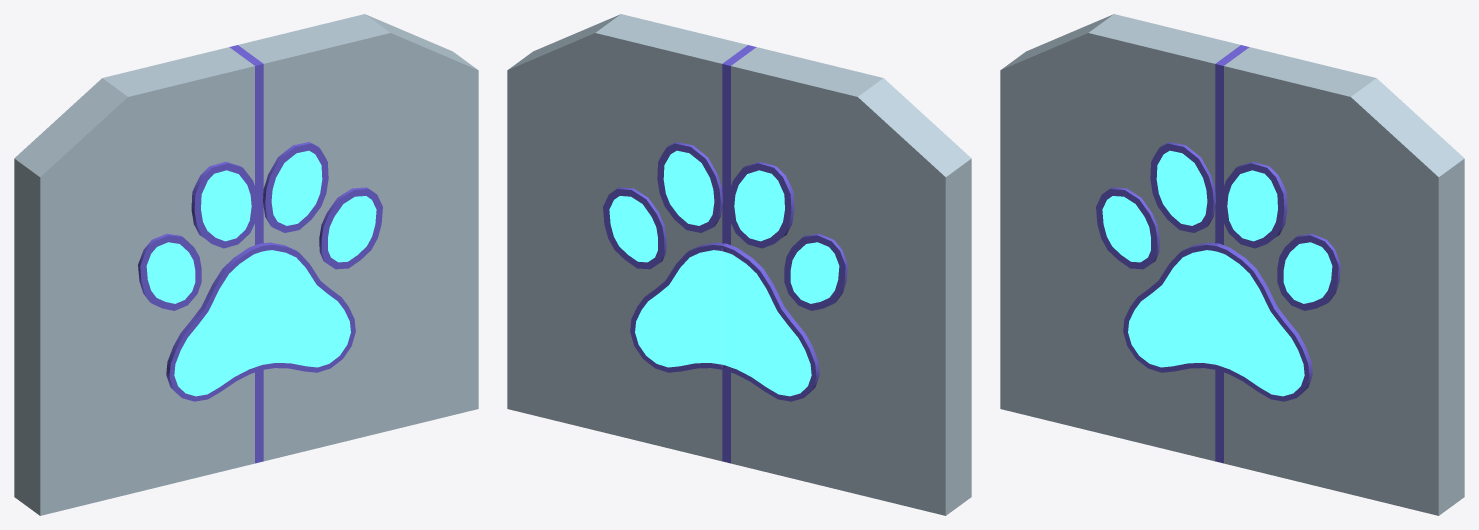
The model's file is CatDoor.fbx.
3 renders of one model, left to right at view 1: azimuth 30°, elevation 25°; view 2: azimuth 150°, elevation 25°; view 3: azimuth 330°, elevation 25°, orthographic.
Parts seen in each view (by area): view 1: DoorFrame_Cat; view 2: DoorFrame_Cat; view 3: DoorFrame_Cat.
Boxes of the visible parts, x1,y1,x2,y2 form: DoorFrame_Cat: (14, 14, 478, 515); DoorFrame_Cat: (507, 14, 971, 515); DoorFrame_Cat: (1000, 14, 1464, 515).
Bounding box in the file's own units: 684 × 592 × 87.28.
